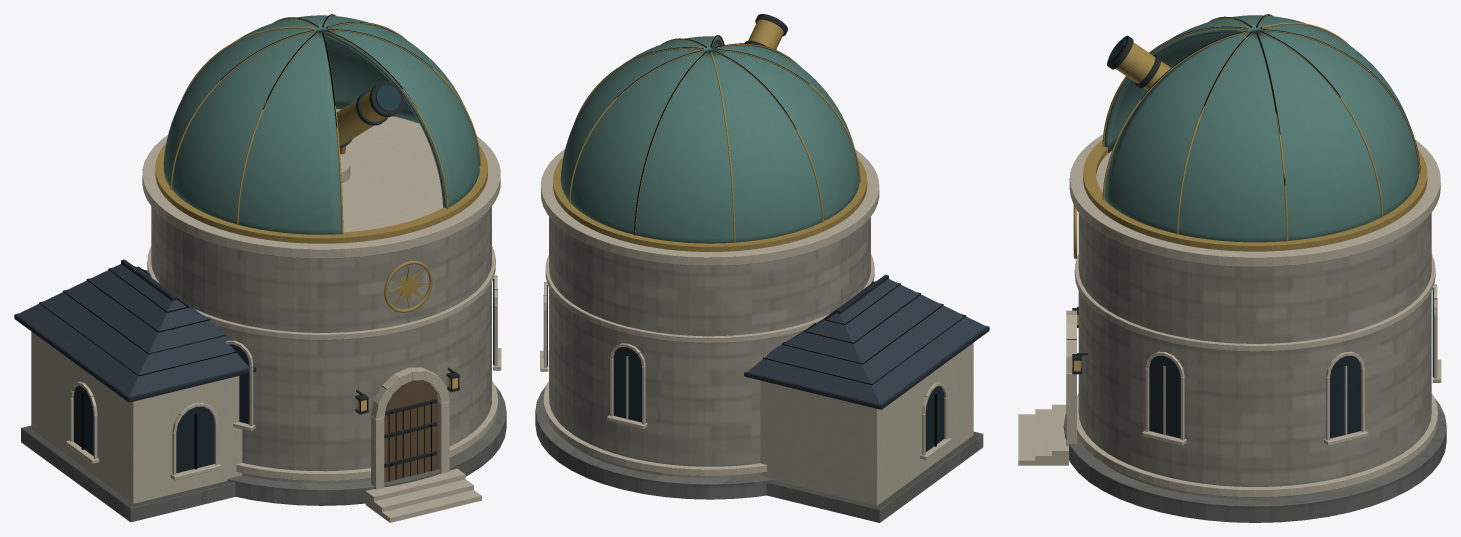
Rendered from Observatory.fbx.
3 views of the same model, side by side, from view 1: azimuth 30°, elevation 25°; view 2: azimuth 150°, elevation 25°; view 3: azimuth 270°, elevation 25° (orthographic). The views are drawn at different scales.
Visible parts, largest first — view 1: Observatory.001; view 2: Observatory.001; view 3: Observatory.001.
Boxes of the visible parts, x1,y1,x2,y2 form: Observatory.001: (14, 14, 506, 522); Observatory.001: (535, 14, 989, 522); Observatory.001: (1018, 14, 1446, 522).
Bounding box in the file's own units: 12.34 × 11.62 × 10.92.
